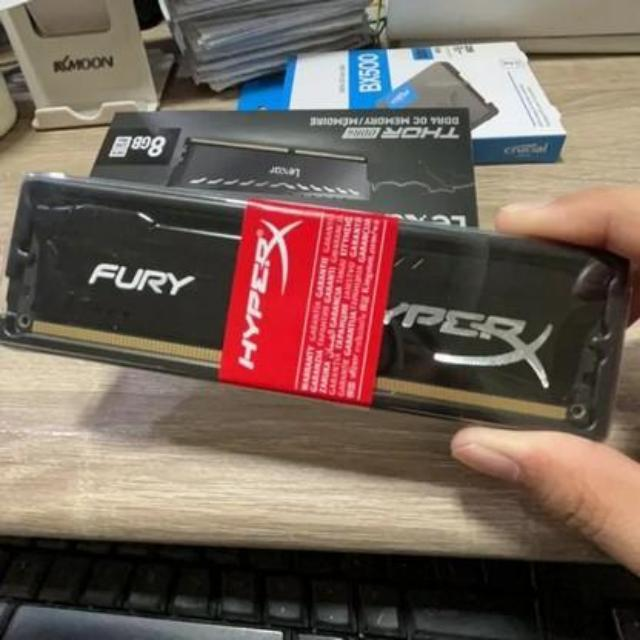RAM: (20, 197, 620, 434)
